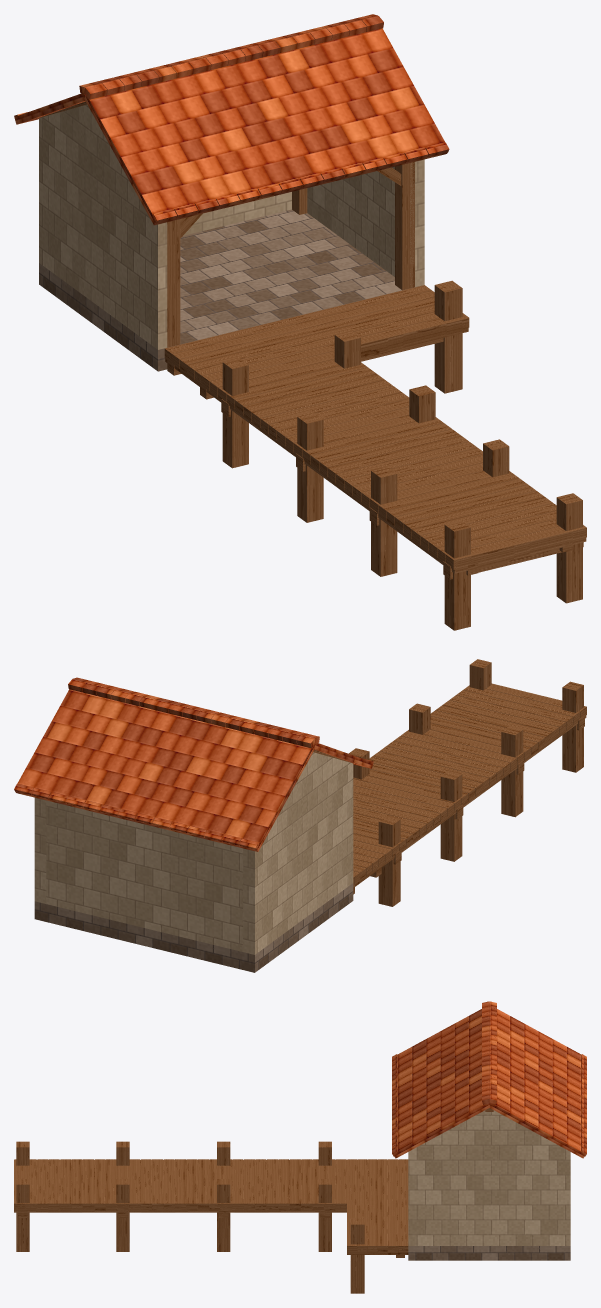
File: Galpao_Pier.fbx
3 renders of one model, top to bottom at view 1: azimuth 30°, elevation 25°; view 2: azimuth 150°, elevation 25°; view 3: azimuth 270°, elevation 25°, orthographic. The views are drawn at different scales.
Visible parts, largest first — view 1: Água do telhado, Piso de lajotas, Empena de pedra | Esquerda, Empena de pedra | Direita, Base contínua do piso do píer, Estaca do patamar, Pilar da baia.002, Estaca do píer, Estaca do píer.001, Estaca do píer.004, Estaca do píer.002, Estaca do píer.006 (+41 smaller); view 2: Água do telhado.001, Parede de fundo, Empena de pedra | Esquerda, Piso de lajotas, Estaca do píer.002, Estaca do píer.004, Estaca do píer.006, Estaca do píer, Empena de pedra | Direita, Tábua do píer 12, Tábua do píer 13, Tábua do píer 14 (+25 smaller); view 3: Empena de pedra | Direita, Água do telhado, Água do telhado.001, Piso de lajotas, Base contínua do piso do píer, Tábua do patamar 03, Tábua do patamar 06, Estaca do patamar, Tábua do patamar 04, Tábua do patamar 05, Tábua do patamar 02, Estaca do píer.001 (+30 smaller).
Part boxes in pixels (bbox=[...]): Água do telhado: bbox=[84, 28, 447, 225]; Piso de lajotas: bbox=[39, 209, 419, 371]; Empena de pedra | Esquerda: bbox=[39, 104, 167, 349]; Empena de pedra | Direita: bbox=[307, 159, 424, 286]; Base contínua do piso do píer: bbox=[210, 392, 586, 573]; Estaca do patamar: bbox=[434, 280, 462, 393]; Pilar da baia.002: bbox=[395, 162, 414, 290]; Estaca do píer: bbox=[444, 520, 470, 630]; Estaca do píer.001: bbox=[556, 493, 582, 603]; Estaca do píer.004: bbox=[297, 412, 323, 522]; Estaca do píer.002: bbox=[371, 466, 397, 576]; Estaca do píer.006: bbox=[222, 358, 248, 468]; Água do telhado.001: bbox=[15, 689, 314, 851]; Parede de fundo: bbox=[45, 800, 243, 951]; Empena de pedra | Esquerda: bbox=[243, 752, 353, 954]; Piso de lajotas: bbox=[34, 883, 353, 972]; Estaca do píer.002: bbox=[501, 726, 523, 817]; Estaca do píer.004: bbox=[440, 770, 462, 861]; Estaca do píer.006: bbox=[378, 816, 400, 906]; Estaca do píer: bbox=[562, 681, 583, 772]; Empena de pedra | Direita: bbox=[34, 797, 46, 903]; Tábua do píer 12: bbox=[394, 736, 510, 775]; Tábua do píer 13: bbox=[387, 741, 503, 780]; Tábua do píer 14: bbox=[380, 746, 496, 785]; Empena de pedra | Direita: bbox=[408, 1110, 570, 1245]; Água do telhado: bbox=[393, 1009, 490, 1158]; Água do telhado.001: bbox=[489, 1009, 585, 1158]; Piso de lajotas: bbox=[408, 1246, 570, 1260]; Base contínua do piso do píer: bbox=[14, 1160, 346, 1212]; Tábua do patamar 03: bbox=[367, 1159, 377, 1252]; Tábua do patamar 06: bbox=[398, 1159, 408, 1252]; Estaca do patamar: bbox=[350, 1218, 364, 1293]; Tábua do patamar 04: bbox=[378, 1159, 387, 1252]; Tábua do patamar 05: bbox=[388, 1159, 397, 1252]; Tábua do patamar 02: bbox=[357, 1159, 367, 1252]; Estaca do píer.001: bbox=[16, 1179, 29, 1251].
Bounding box in the file's own units: 5.95 × 5.7 × 14.76.
4 materials, 4 textured.
